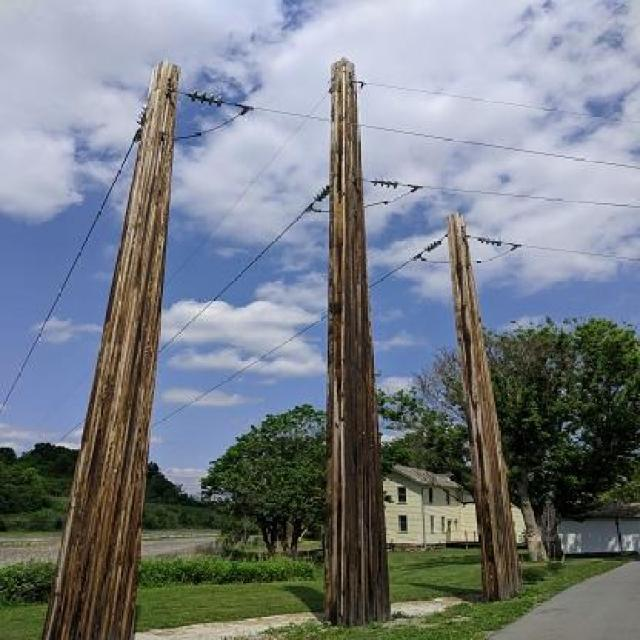pole: (35, 51, 198, 637), (291, 66, 417, 620), (422, 214, 526, 595)
